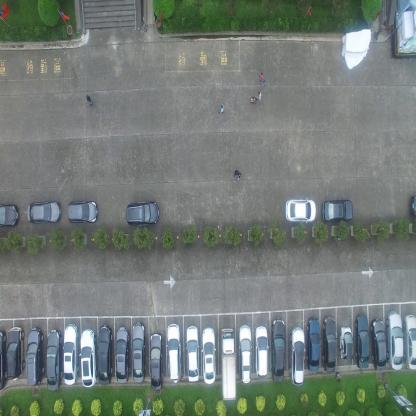car: (220, 326, 236, 402), (79, 326, 97, 388), (26, 324, 44, 386), (269, 319, 285, 384), (45, 327, 62, 388), (97, 322, 113, 384), (6, 325, 24, 380), (165, 322, 181, 382), (63, 321, 78, 384), (386, 312, 402, 371), (200, 326, 216, 384), (26, 199, 62, 224), (148, 331, 163, 390), (290, 326, 305, 385), (184, 324, 199, 382), (284, 197, 316, 224), (370, 318, 386, 372), (237, 325, 251, 386), (131, 320, 145, 381), (322, 315, 336, 374), (125, 199, 158, 224), (320, 199, 352, 224), (306, 315, 320, 372), (115, 323, 128, 383), (354, 314, 368, 368), (254, 326, 268, 379), (68, 199, 98, 223), (404, 313, 416, 371), (339, 324, 353, 360), (0, 203, 20, 228), (0, 330, 6, 392), (409, 195, 415, 220)
